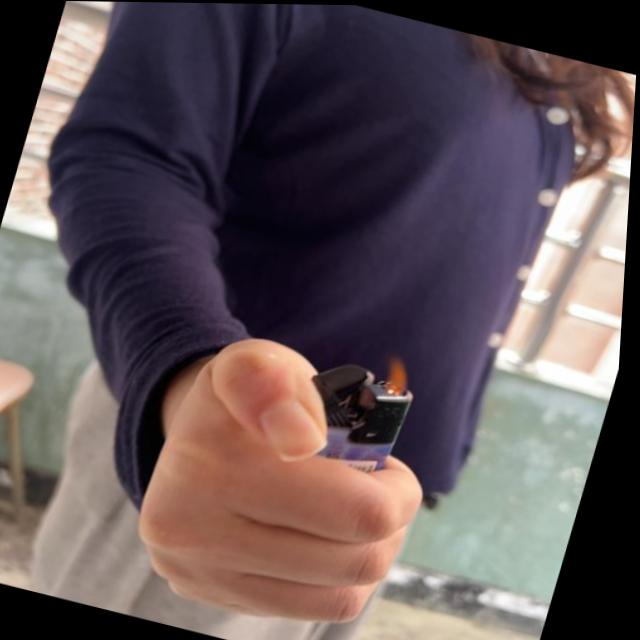Fire: (377, 350, 423, 399)
